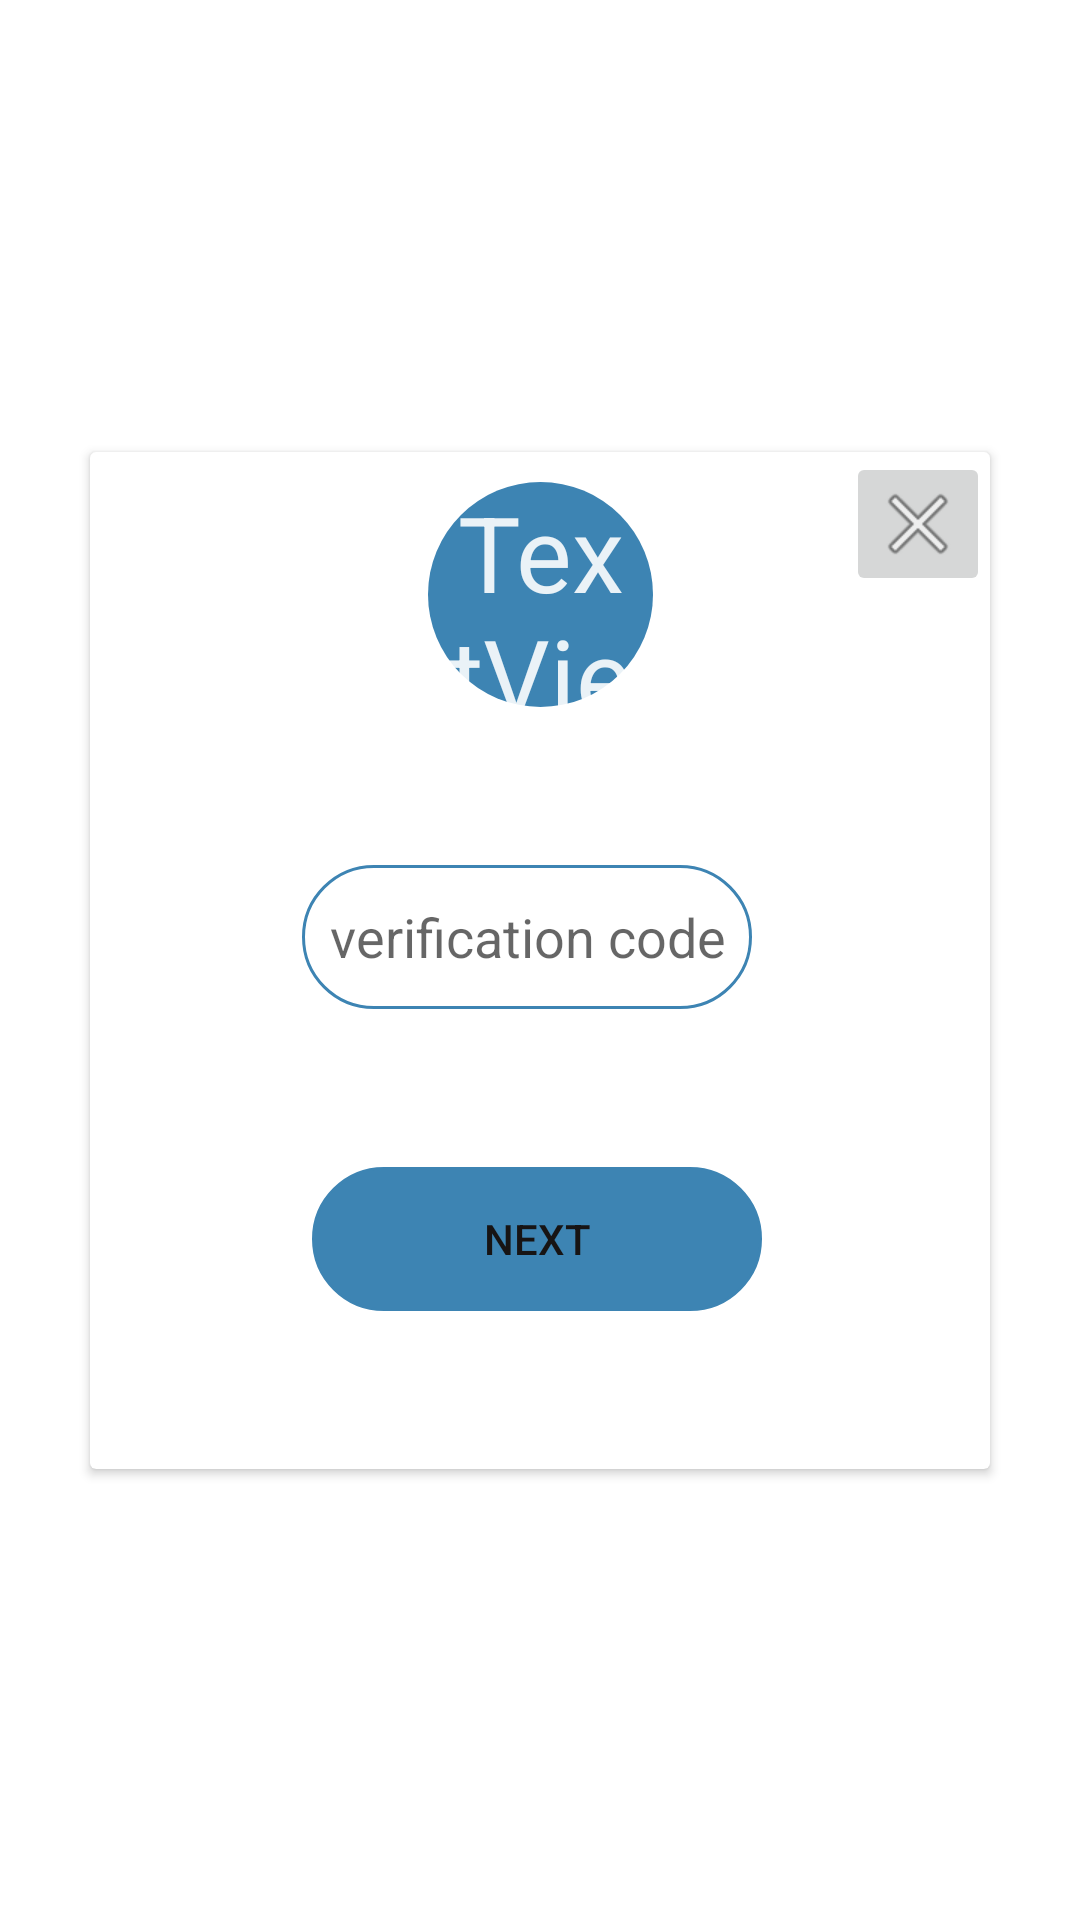

Icons on this 1080 x 1920 Android screen, each with its box as (x1, y1, x2, y2):
close clear cancel: (858, 470, 978, 578)
